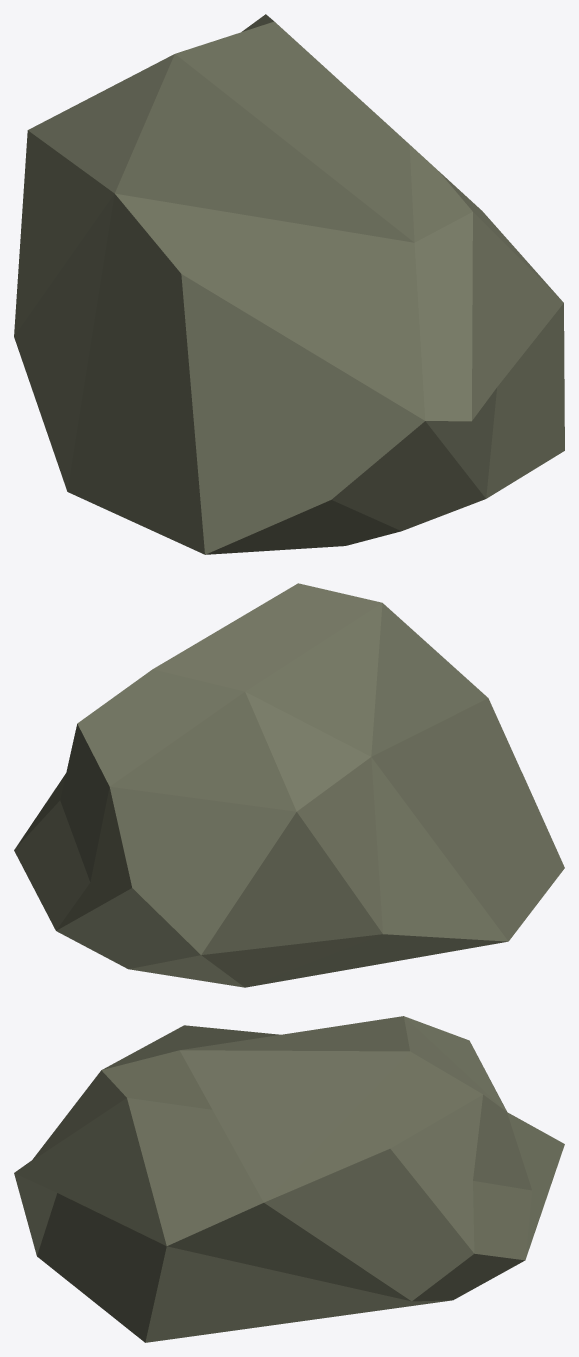
File: boulder.fbx
The picture shows the model from 3 angles, top to bottom: view 1: azimuth 30°, elevation 25°; view 2: azimuth 150°, elevation 25°; view 3: azimuth 270°, elevation 25°; orthographic projection. The views are drawn at different scales.
Parts seen in each view (by area): view 1: Icosphere; view 2: Icosphere; view 3: Icosphere.
Boxes of the visible parts, x1,y1,x2,y2 form: Icosphere: [14, 14, 564, 554]; Icosphere: [14, 583, 564, 987]; Icosphere: [14, 1016, 564, 1342].
Bounding box in the file's own units: 440 × 307 × 237.
